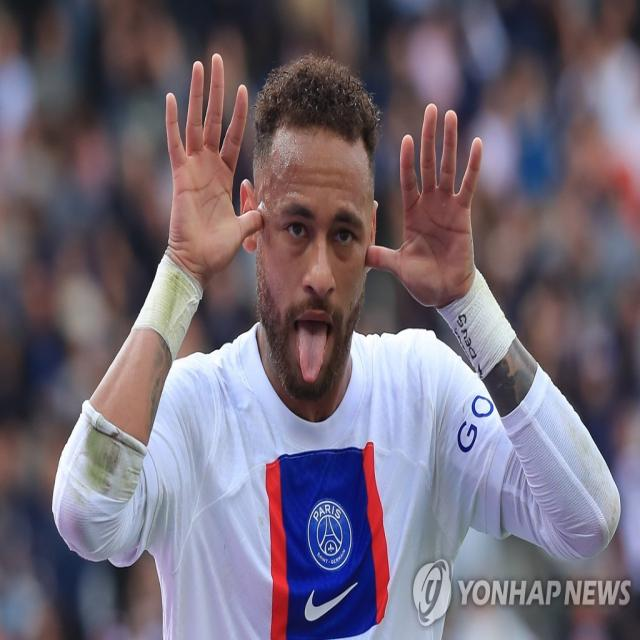neymar: (248, 69, 382, 403)
